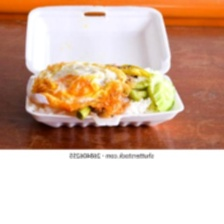foam_box: (20, 1, 189, 131)
